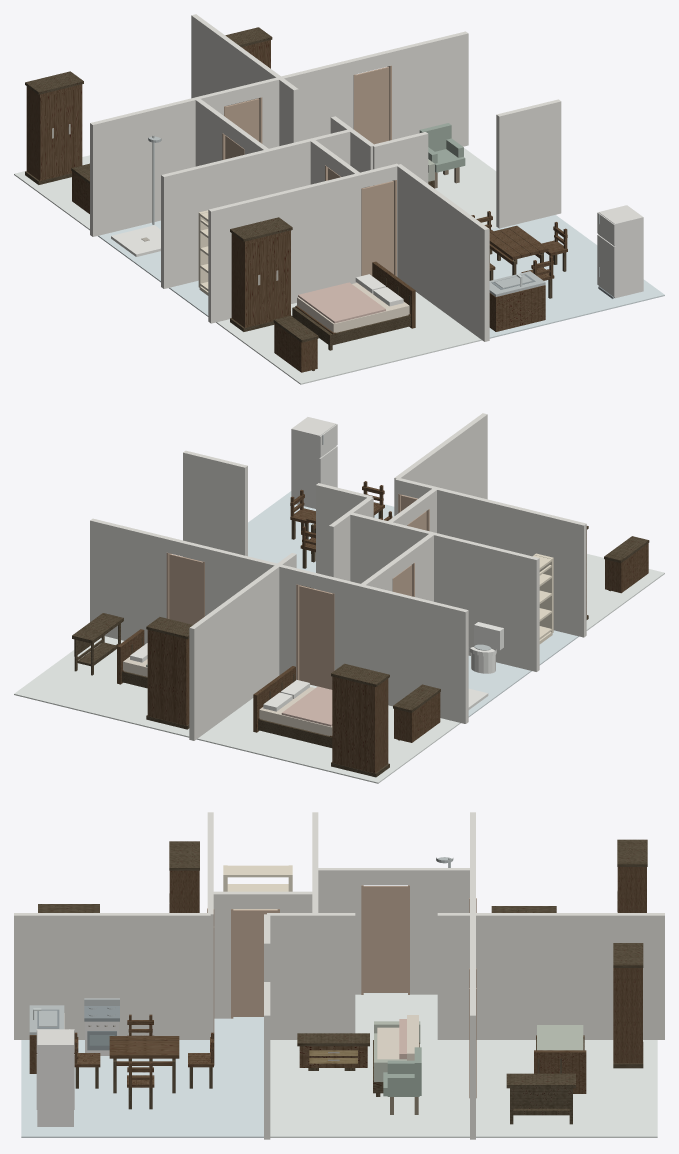
3 views of the same model, one above another, from view 1: azimuth 30°, elevation 25°; view 2: azimuth 150°, elevation 25°; view 3: azimuth 270°, elevation 25° (orthographic). The views are drawn at different scales.
Visible parts, largest first — view 1: H17_WALL_05, H17_WALL_02, H17_WALL_13, H17_WALL_08, H17_WALL_00, H17_WALL_11, H17_FLOOR_03_QUARTO_1, H17_FLOOR_00_COZINHA_REFEICOES, H17_WALL_04, H17_WALL_12, H17_FLOOR_01_SALA, H17_DOOR_01_LEAF (+35 smaller); view 2: H17_WALL_13, H17_WALL_08, H17_WALL_04, H17_WALL_05, H17_WALL_11, H17_WALL_00, H17_FLOOR_02_QUARTO_2, H17_FLOOR_08_QUARTO_3, H17_FURN_19_wardrobe__06__corpo, H17_WALL_12, H17_WALL_02, H17_FURN_10_wardrobe__06__corpo (+27 smaller); view 3: H17_WALL_04, H17_WALL_02, H17_FLOOR_00_COZINHA_REFEICOES, H17_FLOOR_01_SALA, H17_FLOOR_02_QUARTO_2, H17_WALL_03, H17_WALL_10, H17_DOOR_03_LEAF, H17_FURN_00_fridge__05__gabinete, H17_DOOR_02_LEAF, H17_FURN_10_wardrobe__06__corpo, H17_FLOOR_06_ACESSO_INTIMO (+31 smaller).
Part boxes in pixels (box(x1,y1,x2,y2)): H17_WALL_05: box(208, 173, 362, 323); H17_WALL_02: box(396, 164, 489, 341); H17_WALL_13: box(90, 91, 224, 236); H17_WALL_08: box(161, 129, 351, 288); H17_WALL_00: box(496, 99, 561, 228); H17_WALL_11: box(388, 31, 468, 146); H17_FLOOR_03_QUARTO_1: box(216, 292, 482, 384); H17_FLOOR_00_COZINHA_REFEICOES: box(489, 215, 664, 338); H17_WALL_04: box(191, 14, 298, 145); H17_WALL_12: box(259, 59, 354, 148); H17_FLOOR_01_SALA: box(435, 148, 497, 228); H17_DOOR_01_LEAF: box(363, 181, 393, 275); H17_WALL_13: box(333, 578, 468, 723); H17_WALL_08: box(350, 512, 539, 671); H17_WALL_04: box(189, 553, 296, 740); H17_WALL_05: box(434, 487, 586, 637); H17_WALL_11: box(90, 518, 169, 644); H17_WALL_00: box(183, 450, 247, 561); H17_FLOOR_02_QUARTO_2: box(14, 636, 189, 737); H17_FLOOR_08_QUARTO_3: box(196, 685, 460, 783); H17_FURN_19_wardrobe__06__corpo: box(332, 676, 388, 773); H17_WALL_12: box(204, 546, 299, 679); H17_WALL_02: box(394, 413, 487, 515); H17_FURN_10_wardrobe__06__corpo: box(147, 629, 189, 725); H17_WALL_04: box(437, 913, 664, 1039); H17_WALL_02: box(14, 913, 210, 1039); H17_FLOOR_00_COZINHA_REFEICOES: box(21, 1038, 263, 1137); H17_FLOOR_01_SALA: box(270, 1038, 469, 1137); H17_FLOOR_02_QUARTO_2: box(476, 1040, 657, 1137); H17_WALL_03: box(267, 913, 355, 1039); H17_WALL_10: box(409, 868, 472, 994); H17_DOOR_03_LEAF: box(363, 886, 407, 992); H17_FURN_00_fridge__05__gabinete: box(37, 1029, 73, 1126); H17_DOOR_02_LEAF: box(233, 909, 277, 1016); H17_FURN_10_wardrobe__06__corpo: box(613, 968, 642, 1063); H17_FLOOR_06_ACESSO_INTIMO: box(355, 993, 437, 1038).
Size of the model in its own units: 8.53 by 2.46 by 11.54.
22 materials, 3 textured.
